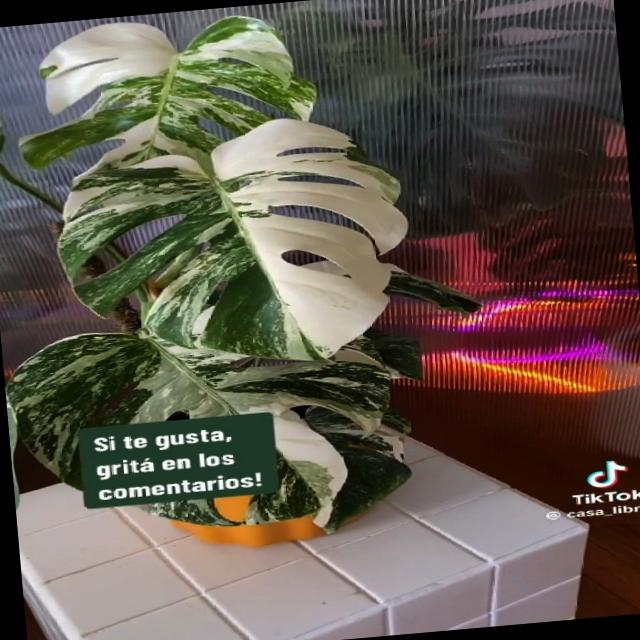lisc_variegata: (58, 120, 479, 360), (7, 329, 421, 533), (17, 15, 317, 184)
roslina_variegata: (4, 16, 478, 533)
